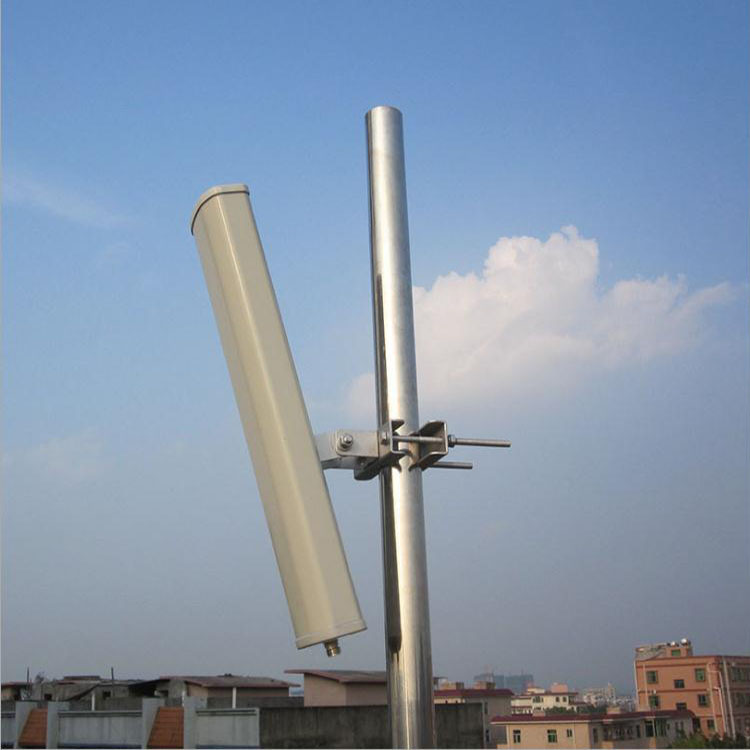sa: (159, 149, 465, 682)
